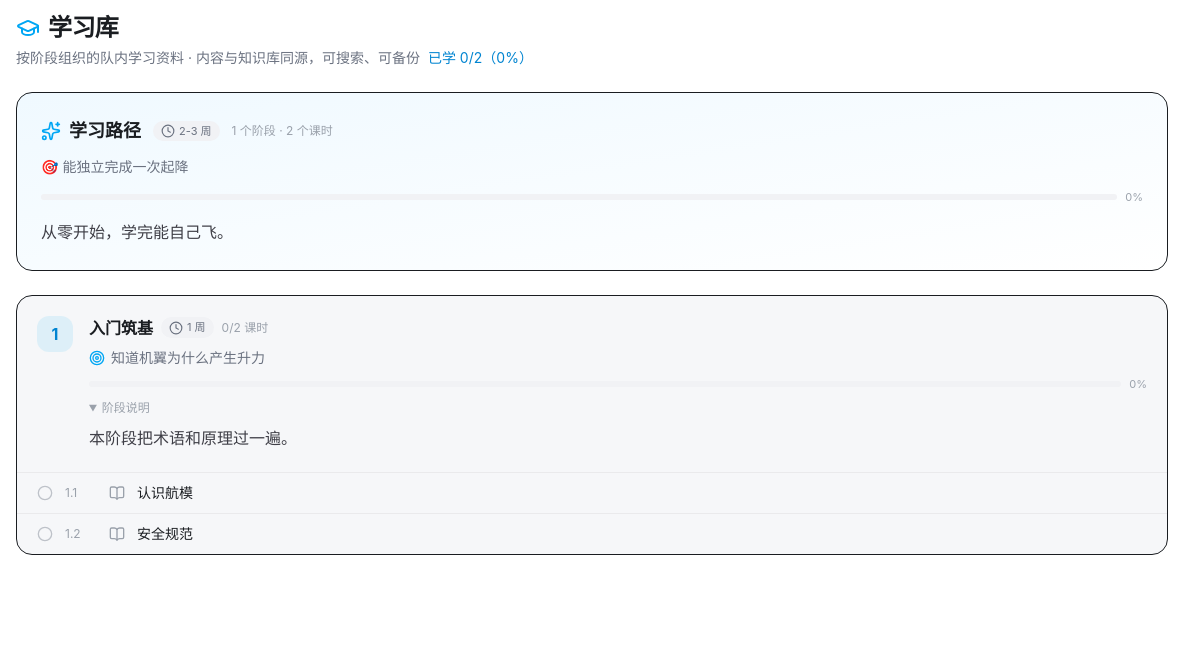
Test: 学习库页 › 点击课时进入阅读页：调正文接口并显示进度与下一课
This screenshot has width=1185, height=645.
Step 1. Click the button "认识航模" → (165, 492), box [109,483,1147,503]
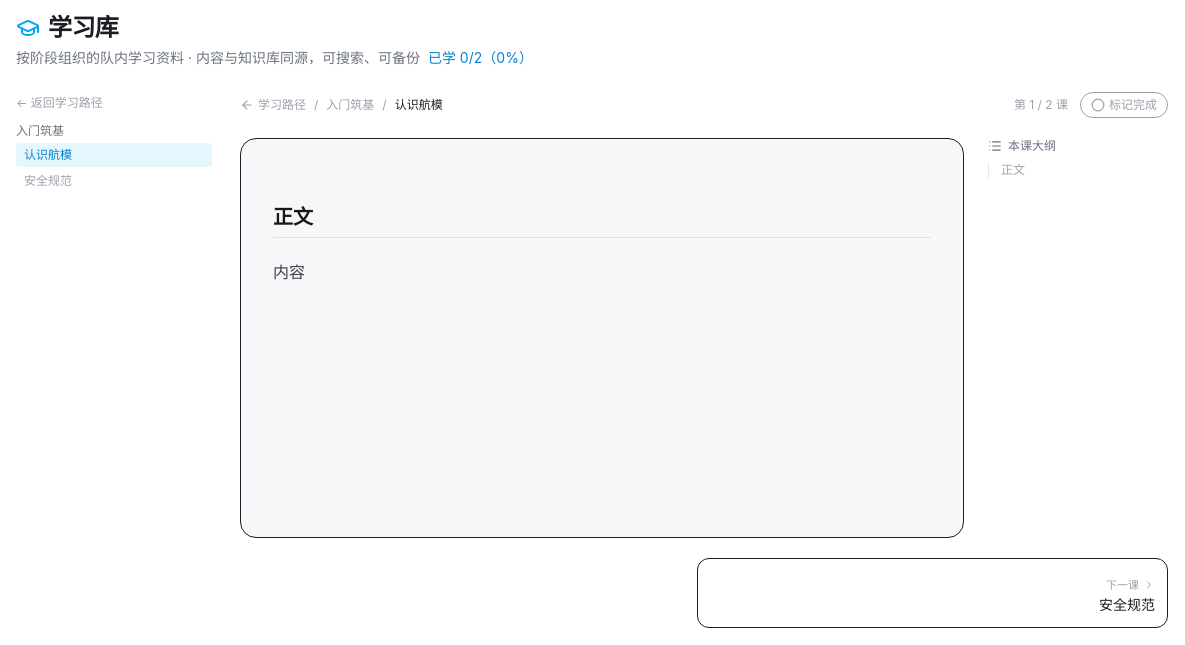
expect the text "第 1 / 2 课" is shown: met, box [1014,97,1068,113]
expect the button "下一课 安全规范" is shown: met, box [697,558,1168,628]
